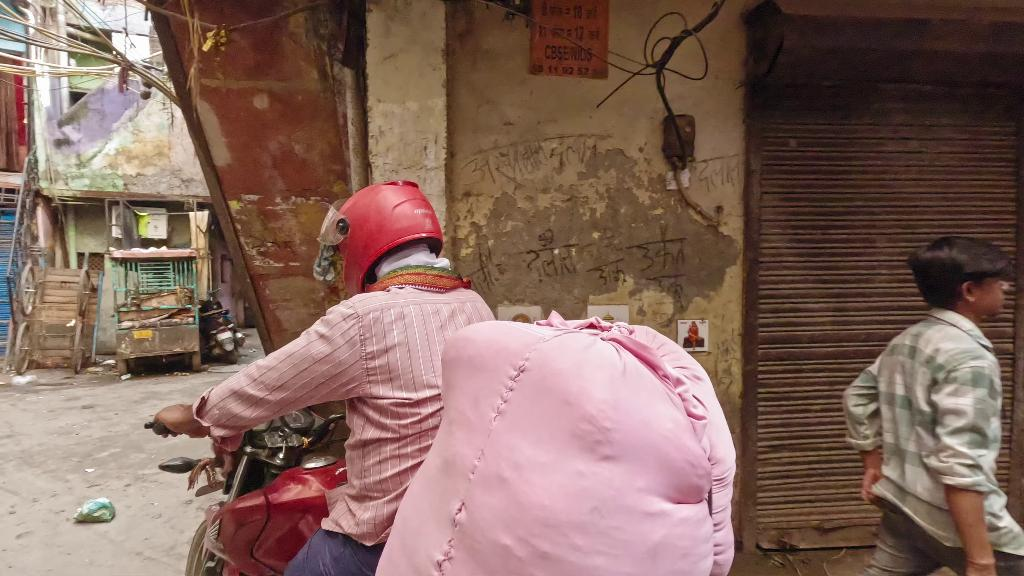garbage: (67, 491, 129, 533)
